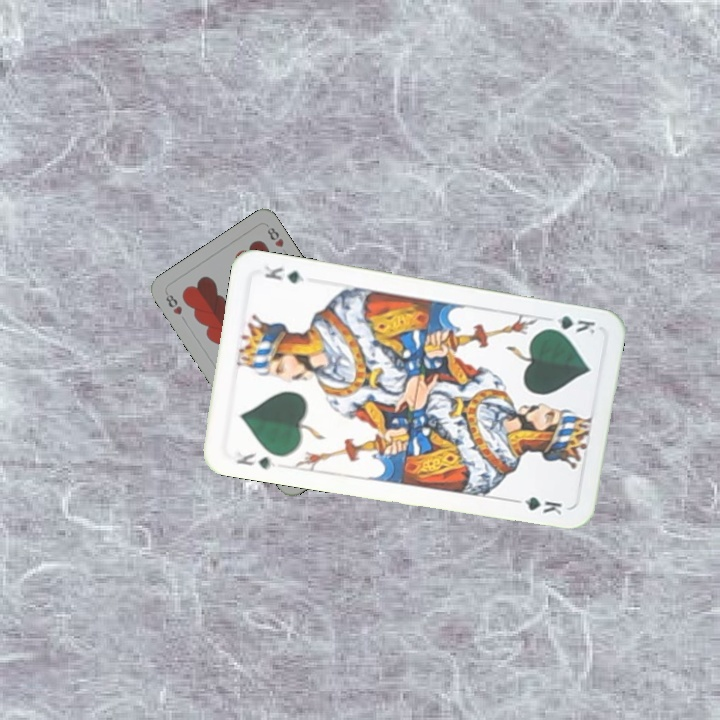GK: (540, 312, 598, 337), (232, 449, 278, 472)
H8: (161, 288, 185, 318)
